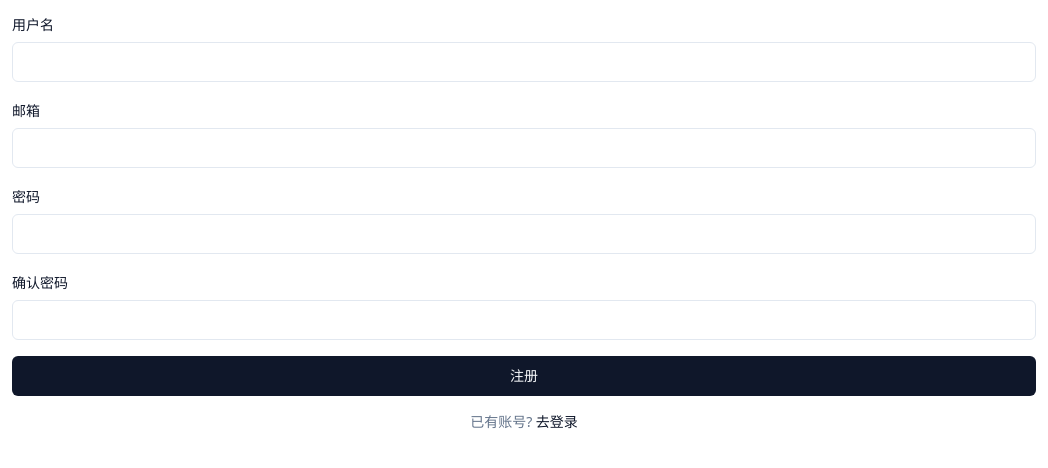
it: RegisterForm › displays backend field error on username
The width and height of the screenshot is (1048, 468).
Type "!!" into the field labelled "用户名" at (524, 62), box [12,42,1036,82]
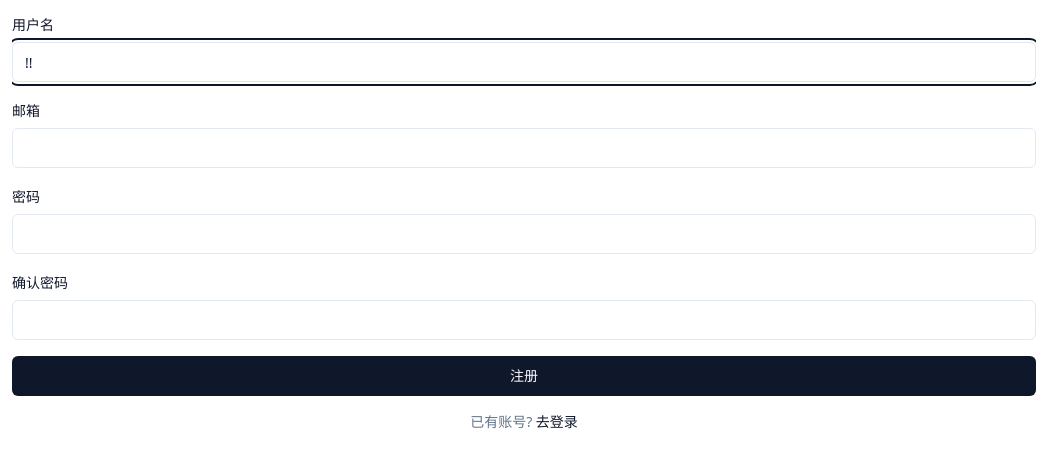
Type "alice@x.com" into the field labelled "邮箱" at (524, 148), box [12,128,1036,168]
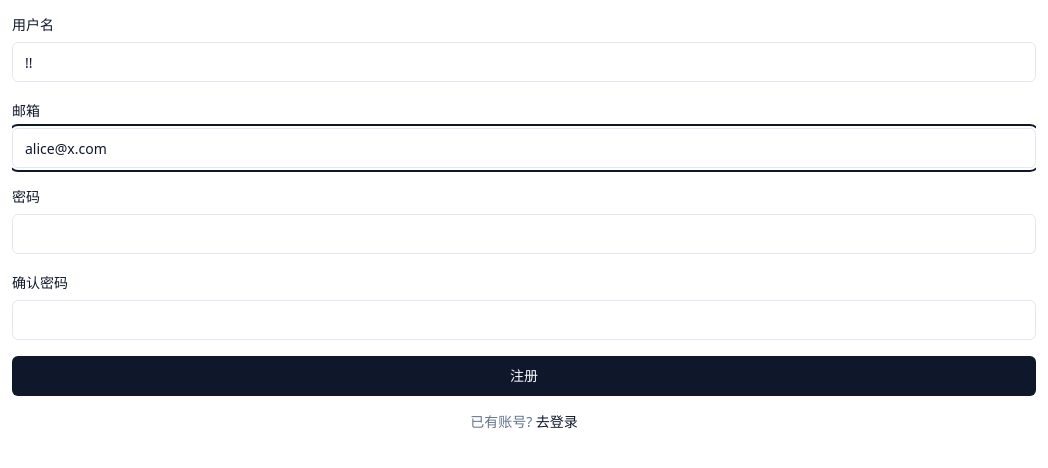
Type "Secret123" into the password field labelled "密码" at (524, 234), box [12,214,1036,254]
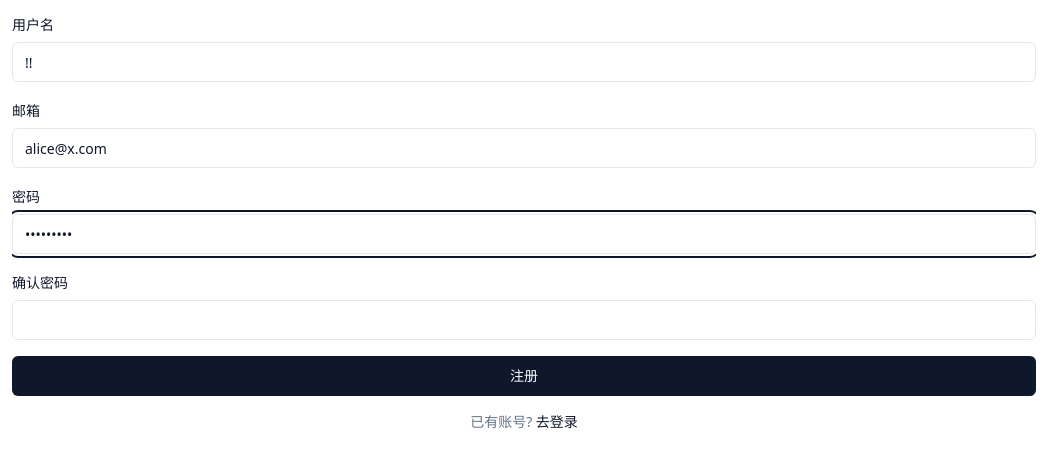
Type "Secret123" into the password field labelled "确认密码" at (524, 320), box [12,300,1036,340]
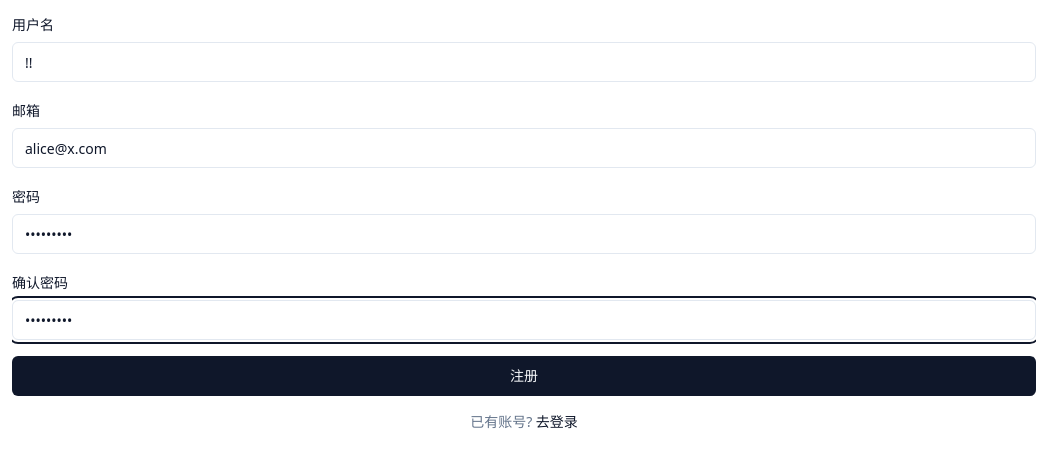
Click the button "注册" at (524, 376), box [12,356,1036,396]
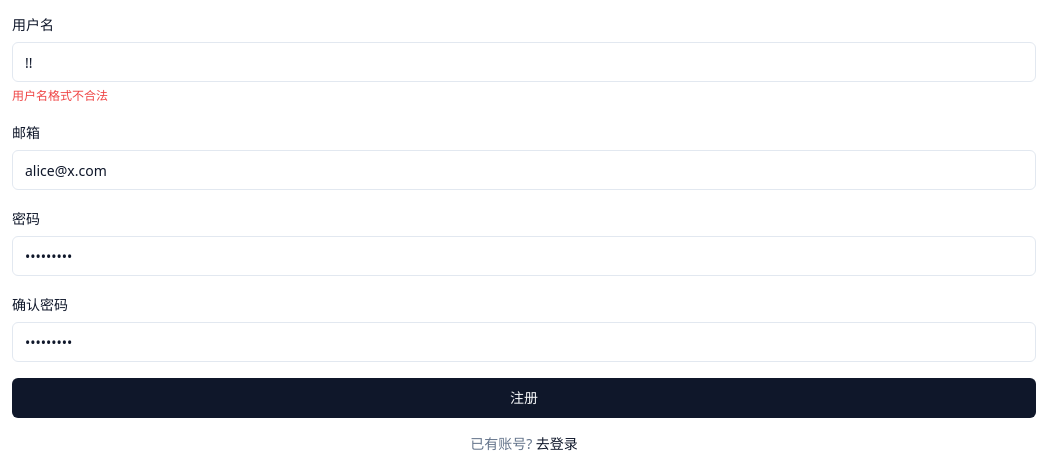
Check: the text "用户名格式不合法" is shown, box [12,87,108,104]
